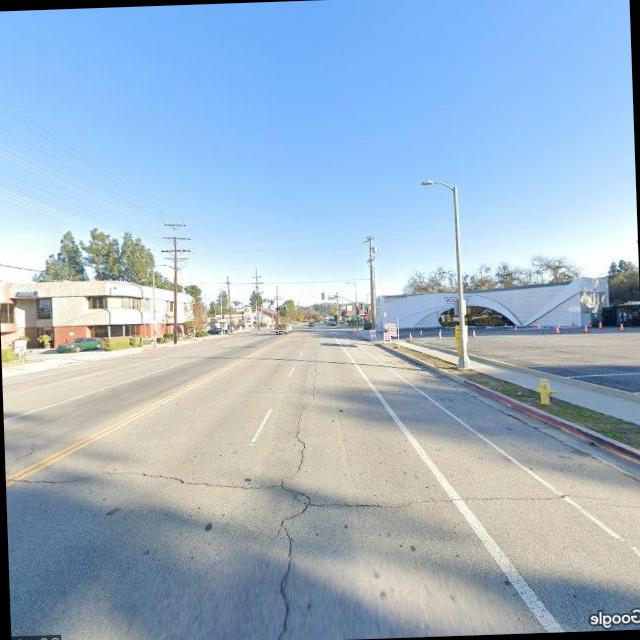crack: (11, 441, 632, 533), (260, 353, 336, 640), (262, 360, 284, 389)
